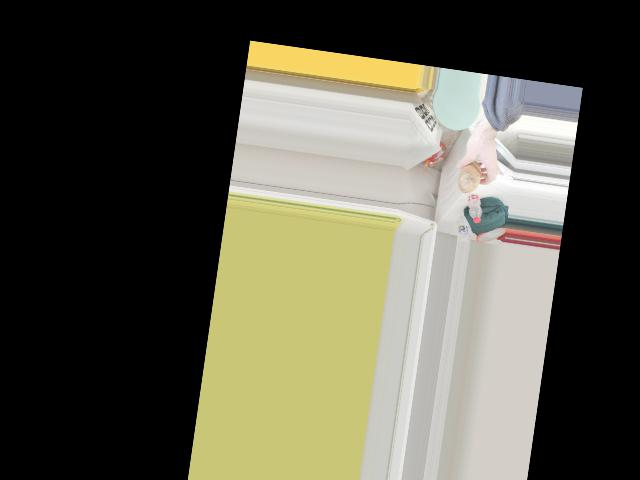sweet_potato: (452, 155, 485, 197)
